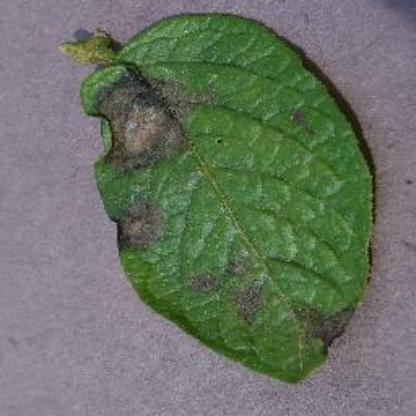Late-Blight: (53, 38, 382, 388)
